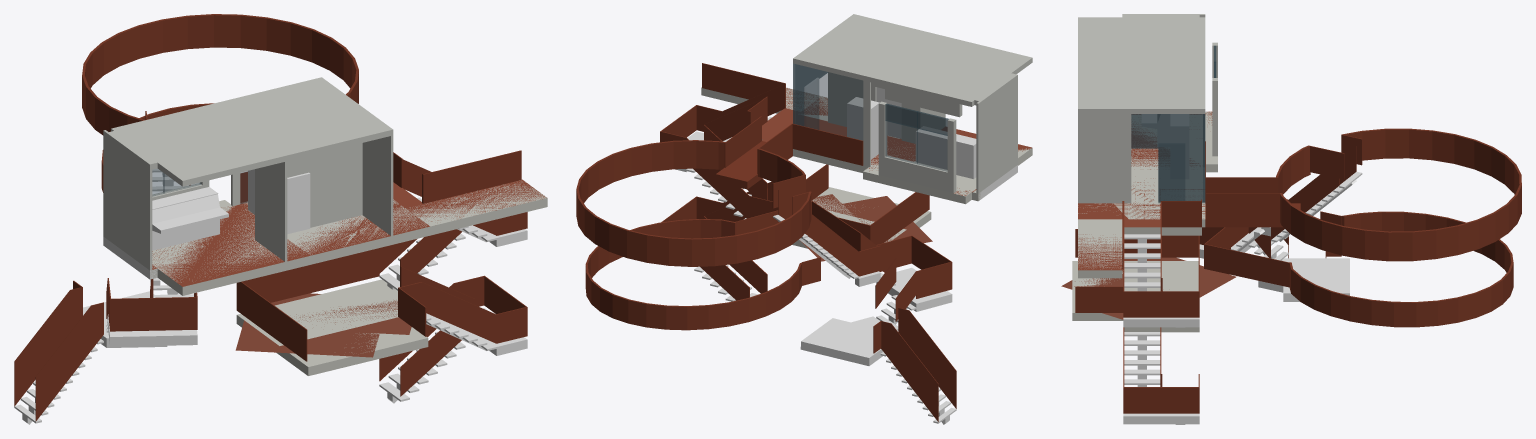
Rendered from ruang-kontrol.glb.
3 views of the same model, side by side, from view 1: azimuth 30°, elevation 25°; view 2: azimuth 150°, elevation 25°; view 3: azimuth 270°, elevation 25° (orthographic). The views are drawn at different scales.
Visible parts, largest first — view 1: Cube.368, Cube.469, Cube.377, Cube.001, Cube.367, Cube.413, Cube.002, Cube.450, Cube.415, Cube.451, Cube.465; view 2: Cube.368, Cube.469, Cube.413, Cube.363, Cube.377, Cube.471, Cube.001, Cube.002, Cube.450, Cube.367, Cube.394, Cube.467 (+7 smaller); view 3: Cube.368, Cube.469, Cube.413, Cube.377, Cube.380, Cube.001, Cube.367, Cube.002, Cube.394, Cube.448, Cube.471, Cube.450.
Boxes of the visible parts, left/top/right/bottom form: Cube.368: left=14, top=14, right=527, bottom=421; Cube.469: left=103, top=77, right=393, bottom=270; Cube.377: left=150, top=180, right=547, bottom=295; Cube.001: left=152, top=179, right=546, bottom=286; Cube.367: left=236, top=279, right=428, bottom=375; Cube.413: left=14, top=168, right=527, bottom=424; Cube.002: left=235, top=293, right=411, bottom=357; Cube.450: left=152, top=194, right=228, bottom=250; Cube.415: left=287, top=172, right=310, bottom=234; Cube.451: left=152, top=187, right=218, bottom=209; Cube.465: left=103, top=237, right=157, bottom=279; Cube.368: left=576, top=63, right=956, bottom=421; Cube.469: left=793, top=14, right=1032, bottom=193; Cube.413: left=675, top=117, right=956, bottom=424; Cube.363: left=795, top=64, right=862, bottom=140; Cube.377: left=701, top=87, right=1032, bottom=204; Cube.471: left=878, top=101, right=956, bottom=193; Cube.001: left=762, top=88, right=1031, bottom=195; Cube.002: left=800, top=194, right=932, bottom=261; Cube.450: left=915, top=132, right=976, bottom=178; Cube.367: left=792, top=187, right=931, bottom=248; Cube.394: left=716, top=141, right=792, bottom=189; Cube.467: left=885, top=120, right=917, bottom=163; Cube.368: left=1075, top=128, right=1521, bottom=413; Cube.469: left=1078, top=14, right=1205, bottom=203; Cube.413: left=1123, top=171, right=1362, bottom=424; Cube.377: left=1078, top=111, right=1217, bottom=278; Cube.380: left=1131, top=114, right=1205, bottom=203; Cube.001: left=1078, top=111, right=1212, bottom=270; Cube.367: left=1072, top=261, right=1199, bottom=332; Cube.002: left=1061, top=257, right=1236, bottom=319; Cube.394: left=1205, top=203, right=1300, bottom=227; Cube.448: left=1170, top=114, right=1188, bottom=178; Cube.471: left=1212, top=42, right=1217, bottom=156; Cube.450: left=1142, top=114, right=1169, bottom=146.
Bounding box in the file's own units: 12.88 × 10.17 × 14.47.
